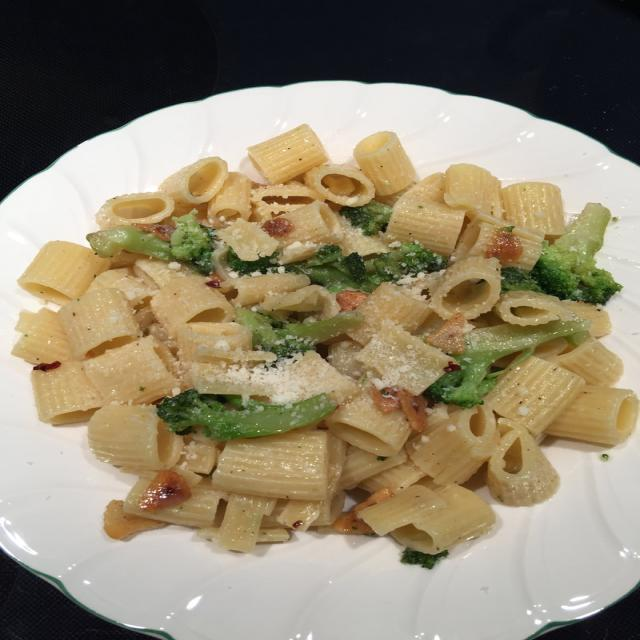Oil pasta: (36, 96, 640, 574)
